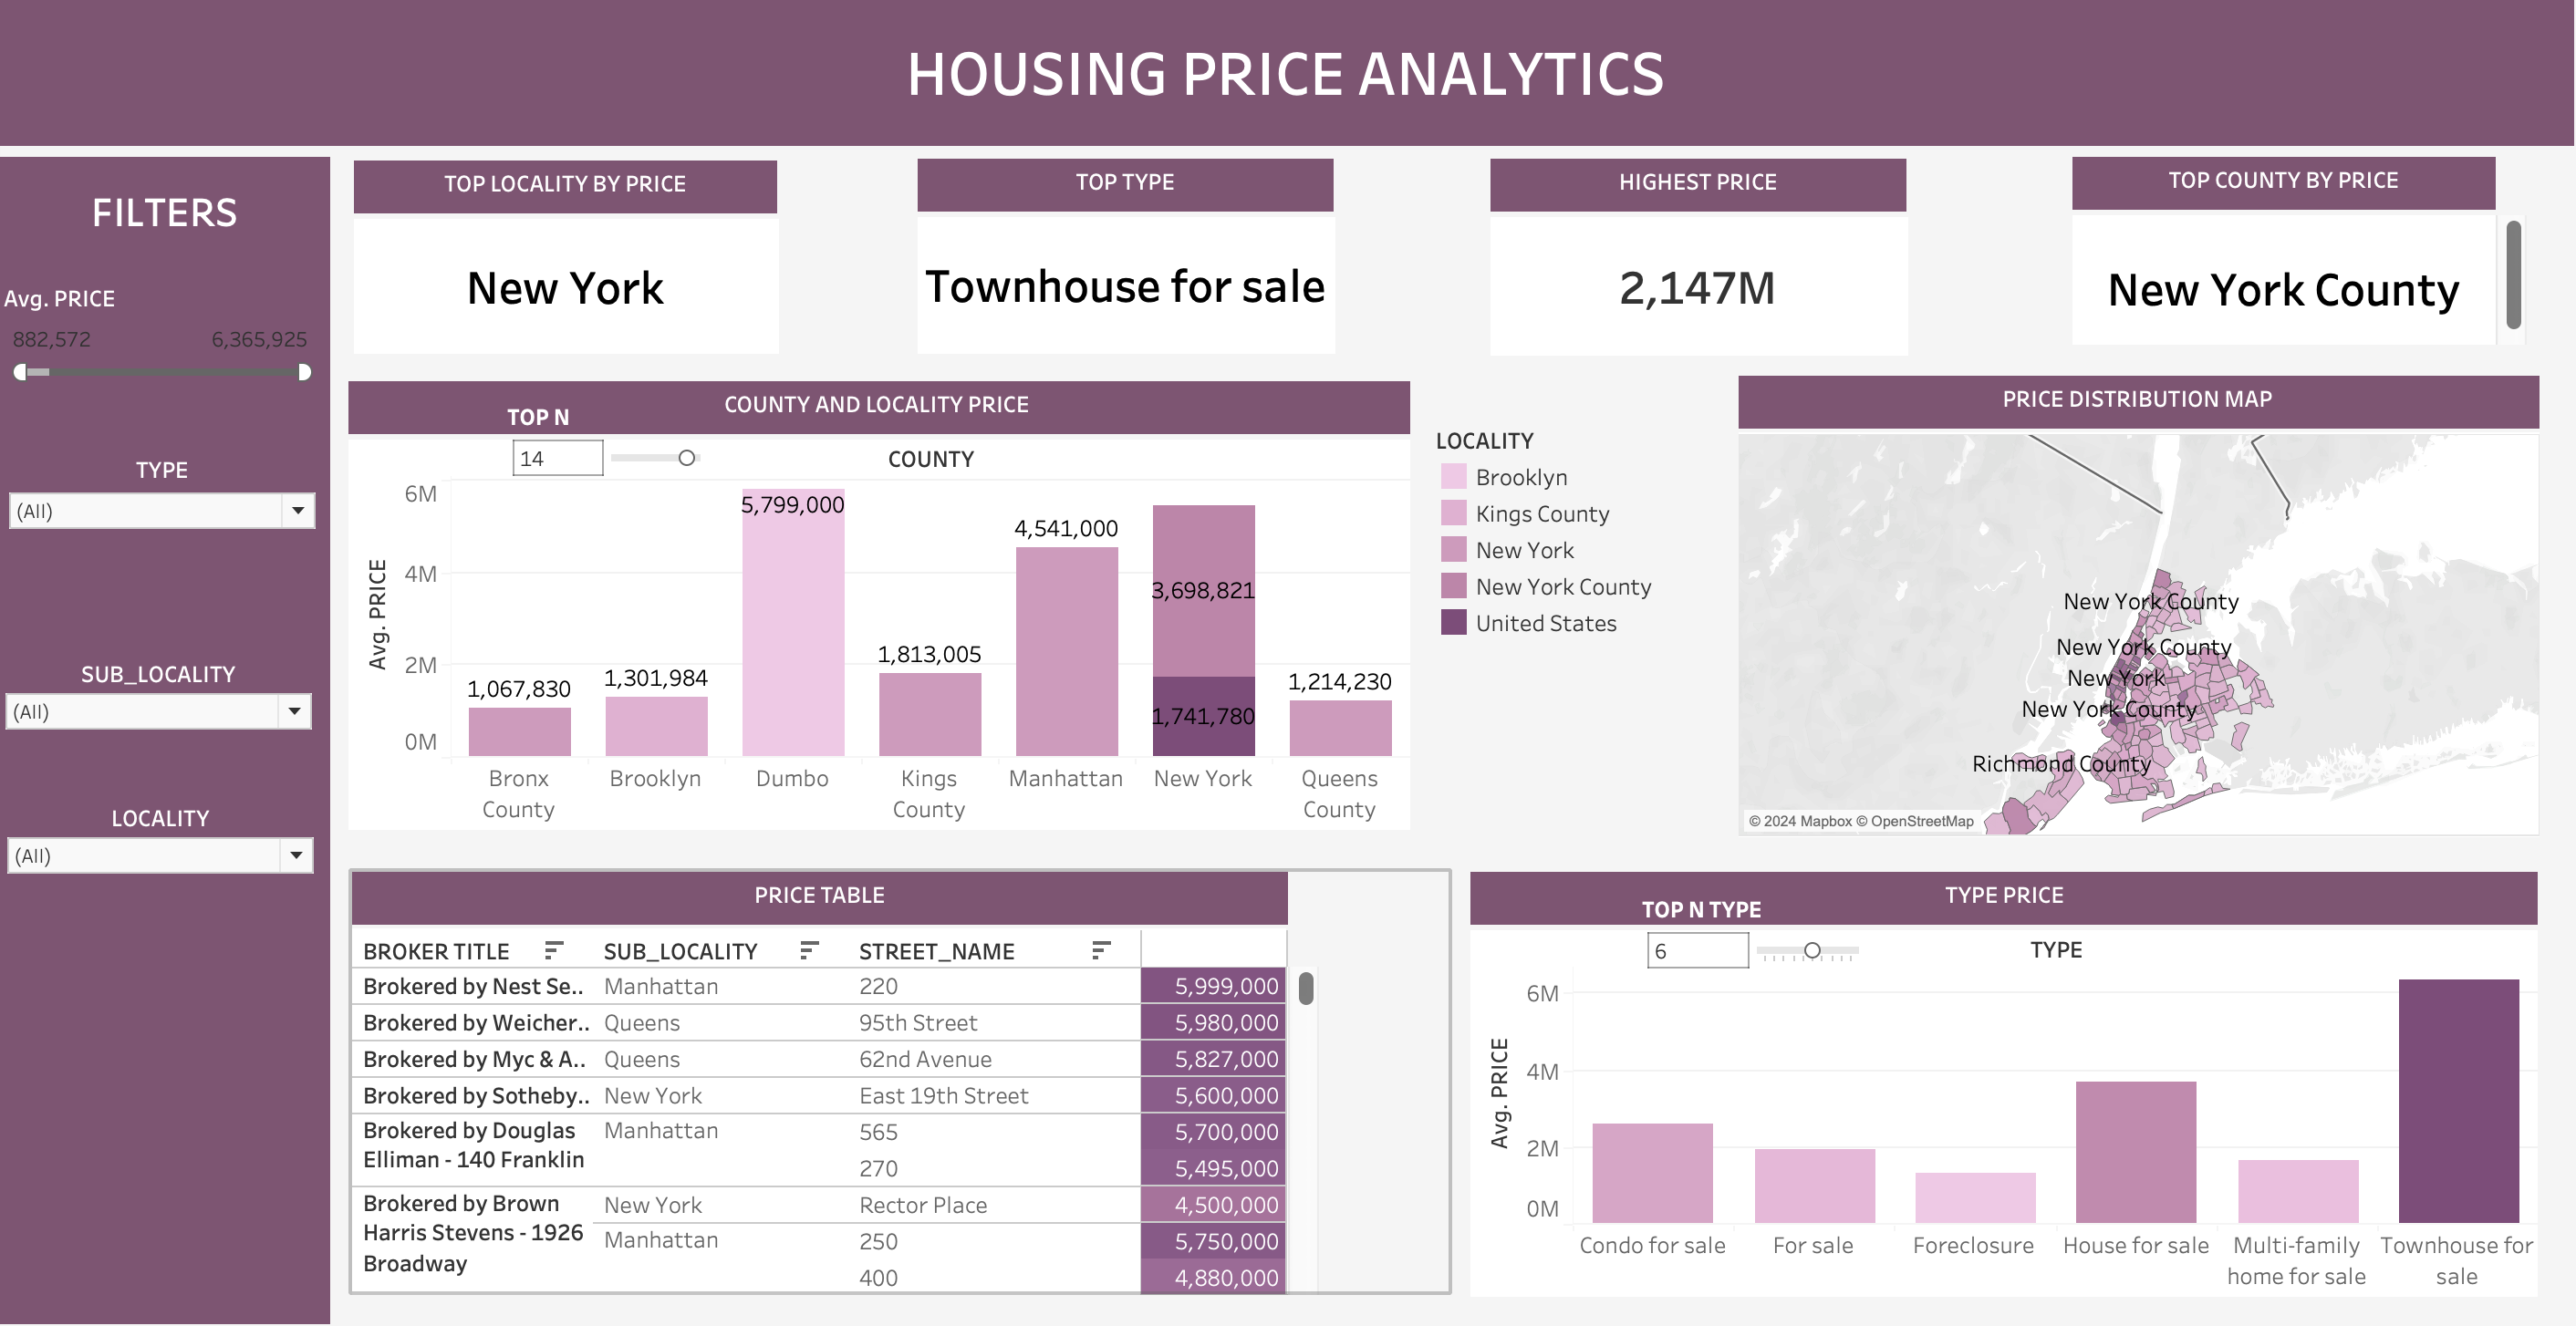

Layout of this report page (visuals, bound fields, positions):
{"tool":"tableau","page":{"name":"HOUSING PRICE ","canvas":[1000,1000],"units":"permille","ordinal":0},"visuals":[{"type":"text","box":[1.5,11.1,996.9,110.7]},{"type":"worksheet","title":"TOP TYPE PRICE","mark":"Automatic","box":[357.4,131.4,272.6,167.1]},{"type":"worksheet","title":"HIGHEST PRICE","mark":"Automatic","box":[579.2,131.4,332.8,336.7]},{"type":"worksheet","title":"TOP LOCALITY BY PRICE","mark":"Automatic","box":[139.5,132.7,259.1,168.4]},{"type":"text","box":[2.3,142.7,127.6,57.8]},{"type":"filter","title":"TYPE PRICE","param":"[federated.0kvu42z1iqwr2r0zqkhqn0pgwafr].[avg:F3:qk]","box":[3.8,225.1,123,75]},{"type":"worksheet","title":"PRICE DISTRIBUTION","mark":"Automatic","box":[674.9,294,310.5,346.9]},{"type":"worksheet","title":"COUNTY LOCALITY PRICE","mark":"Automatic","rows":["F3"],"cols":["F12"],"box":[136.8,298.9,411.2,337]},{"type":"parameter","param":"[Parameters].[Parameter 1]","box":[198.3,313.7,76.9,82.4]},{"type":"legend","title":"COUNTY LOCALITY PRICE","param":"[federated.0kvu42z1iqwr2r0zqkhqn0pgwafr].[none:F11:nk]","box":[558,332.1,107.6,308.7]},{"type":"filter","title":"TYPE PRICE","param":"[federated.0kvu42z1iqwr2r0zqkhqn0pgwafr].[none:F2:nk]","box":[3.8,353,123,105.8]},{"type":"filter","title":"TYPE PRICE","param":"[federated.0kvu42z1iqwr2r0zqkhqn0pgwafr].[none:F13:nk]","box":[2.3,506.8,123,54.1]},{"type":"filter","title":"TYPE PRICE","param":"[federated.0kvu42z1iqwr2r0zqkhqn0pgwafr].[none:F11:nk]","box":[3.1,615,123,54.1]},{"type":"worksheet","title":"PRICE TABLE","mark":"Square","rows":["F1","F13","F14"],"box":[138.4,666.7,424.3,318.6]},{"type":"worksheet","title":"TYPE PRICE","mark":"Automatic","rows":["F3"],"cols":["F2"],"box":[571.1,666.7,413.5,319.8]},{"type":"parameter","param":"[Parameters].[Parameter 2]","box":[638,683.9,86.1,84.9]}]}

Visuals, with their boxes on the dashboard's canvas, which has no fixed pixel size, in thousandths of its width and height (x1, y1, x2, y2). These are canvas units, not pixel positions in the 2576x1326 screenshot, which may show the page scaled, cropped or inside an application window:
text: select_region(2, 11, 998, 122)
"TOP TYPE PRICE" worksheet: select_region(357, 131, 630, 298)
"HIGHEST PRICE" worksheet: select_region(579, 131, 912, 468)
"TOP LOCALITY BY PRICE" worksheet: select_region(140, 133, 399, 301)
text: select_region(2, 143, 130, 200)
"TYPE PRICE" filter: select_region(4, 225, 127, 300)
"PRICE DISTRIBUTION" worksheet: select_region(675, 294, 985, 641)
"COUNTY LOCALITY PRICE" worksheet: select_region(137, 299, 548, 636)
parameter: select_region(198, 314, 275, 396)
"COUNTY LOCALITY PRICE" legend: select_region(558, 332, 666, 641)
"TYPE PRICE" filter: select_region(4, 353, 127, 459)
"TYPE PRICE" filter: select_region(2, 507, 125, 561)
"TYPE PRICE" filter: select_region(3, 615, 126, 669)
"PRICE TABLE" worksheet (Square marks): select_region(138, 667, 563, 985)
"TYPE PRICE" worksheet: select_region(571, 667, 985, 986)
parameter: select_region(638, 684, 724, 769)
